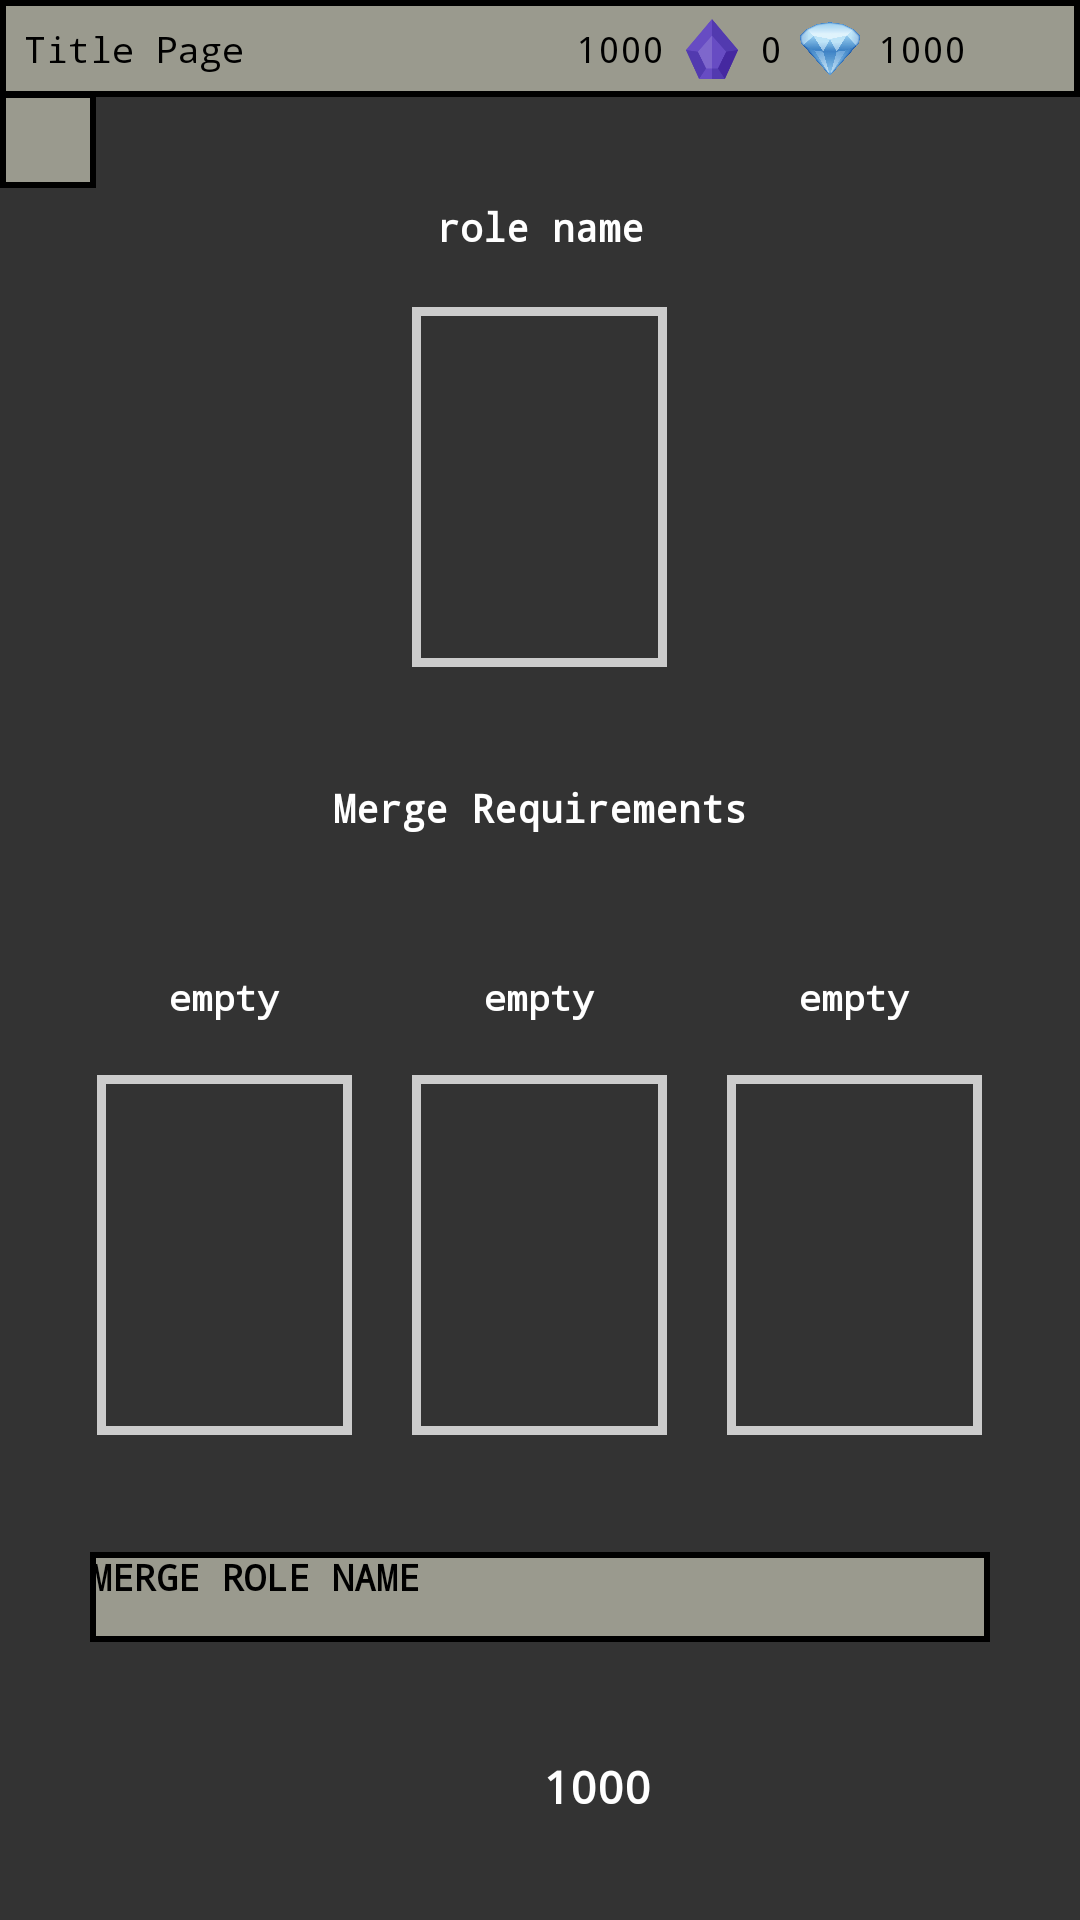

Where icons sit on this 1080*1920 app screen, as (x1, y1, x2, y2):
diamond: (800, 22, 860, 75)
